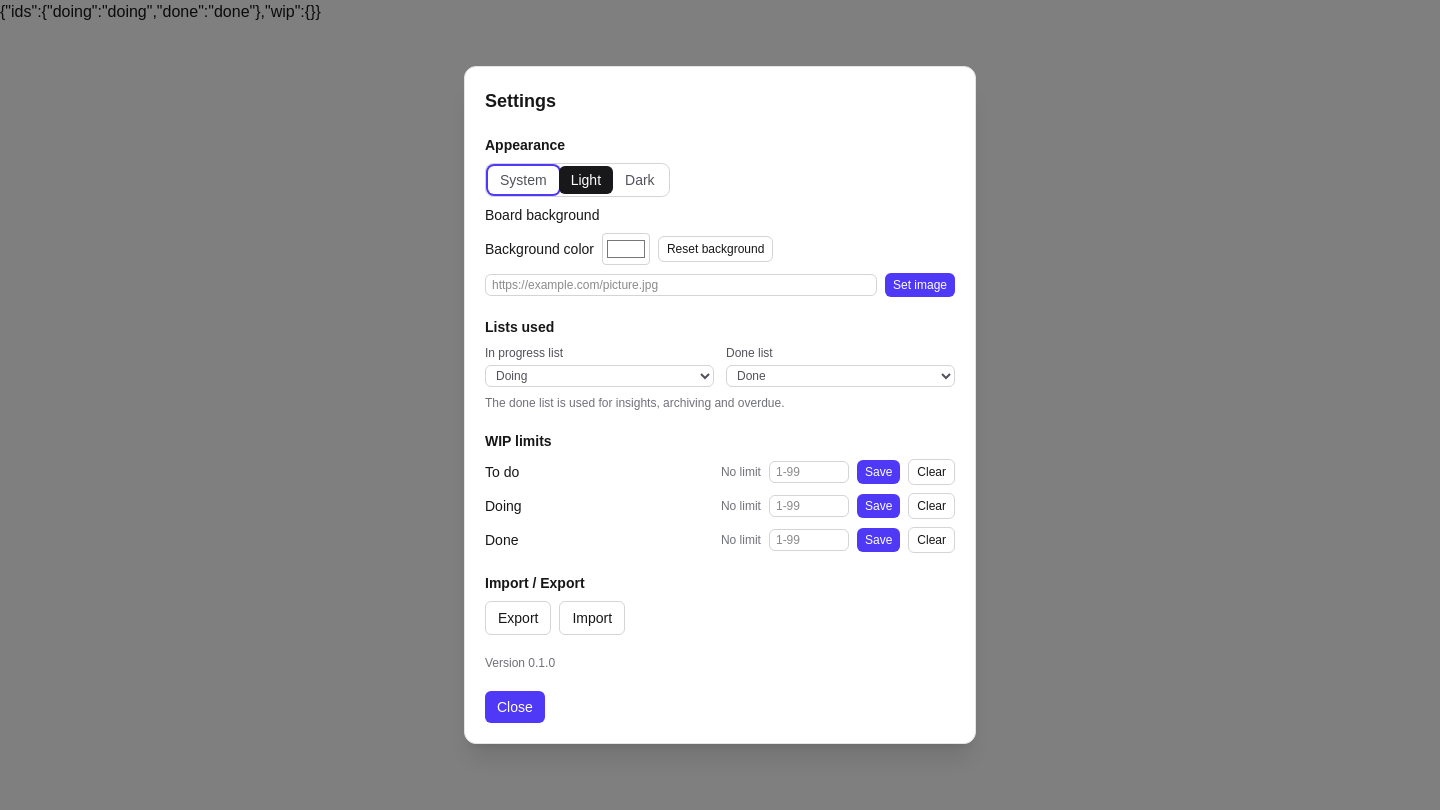
Scenario: <SettingsPanel /> › rejects the WIP limit abc
The width and height of the screenshot is (1440, 810).
Type "abc" into the field named "WIP limit for Doing". click: [809, 506]
box: [769,495,849,517]
Then press Enter
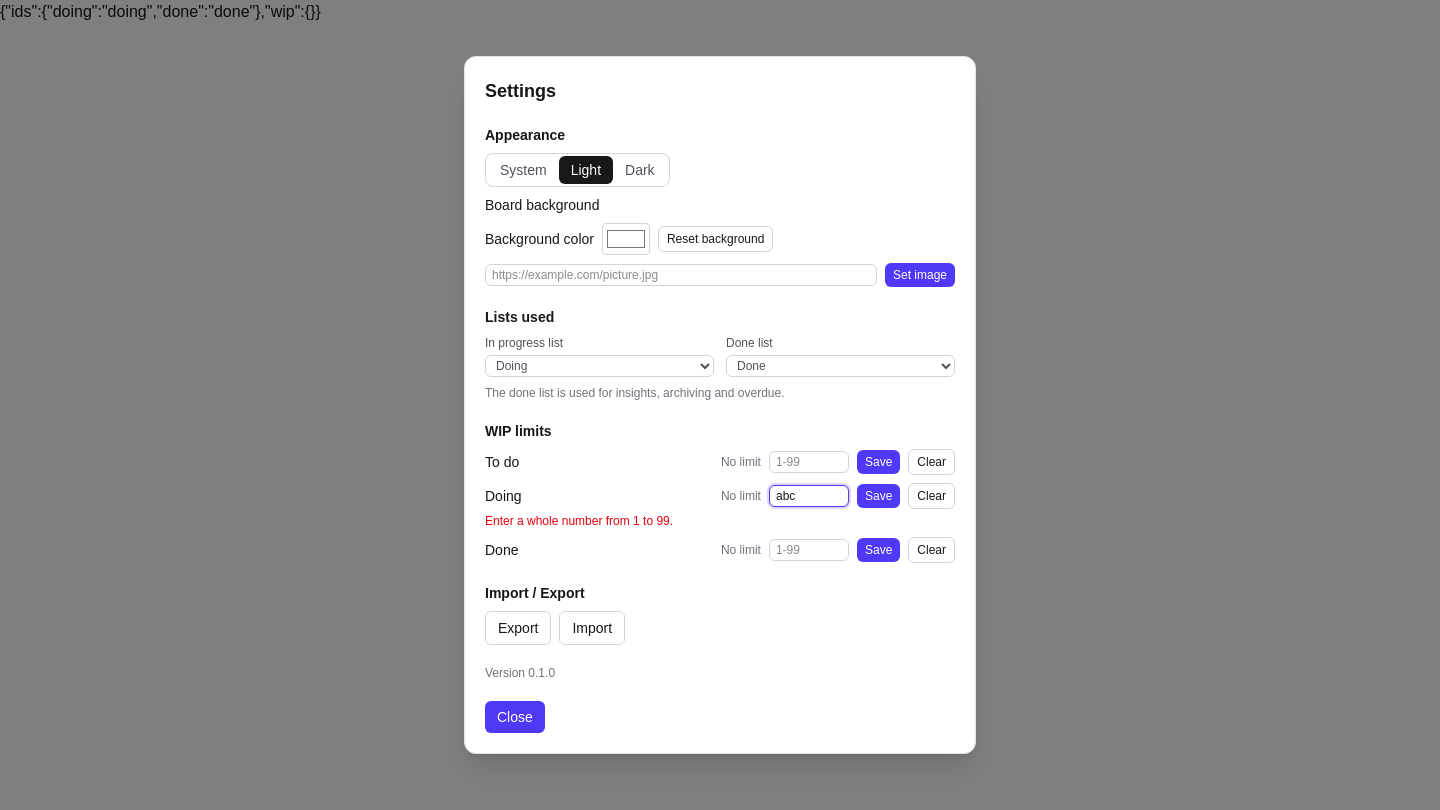
Expected: the message "Enter a whole number from 1 to 99." is shown, [485,514,673,528]
